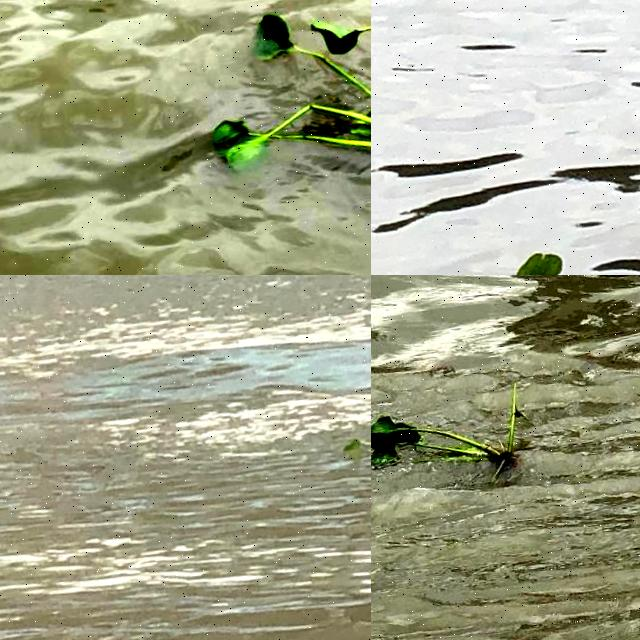water-hyacinth: (210, 1, 372, 170), (372, 379, 538, 492), (135, 276, 372, 341)
